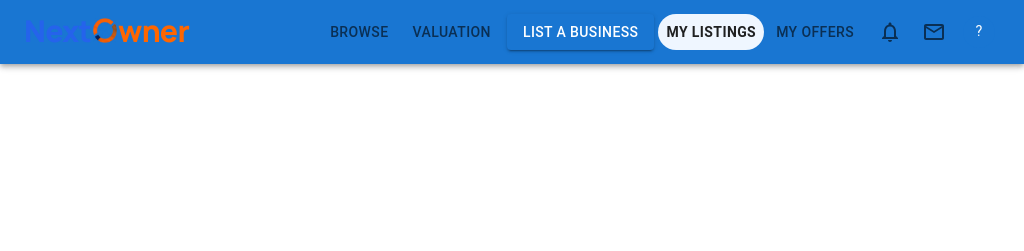
Test case: NavBar › opens Watchlist, Saved searches and Logout from the account menu
Click the button named "account menu" at (979, 32), box [958,11,1000,53]
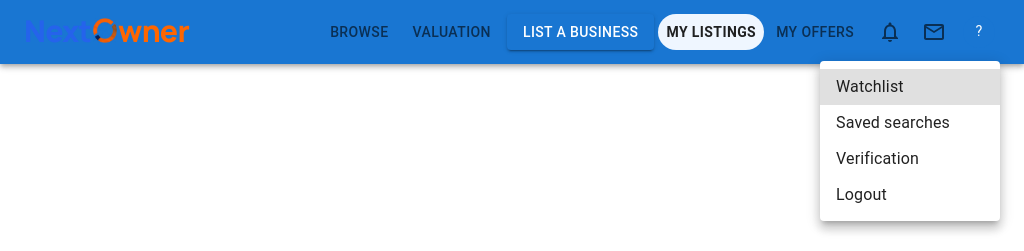
Expected: the menu item "Watchlist" is shown, [820,69,1000,105]
Expected: the menu item "Saved searches" is shown, [836,113,950,132]
Expected: the menu item "Logout" is shown, [836,185,887,204]
